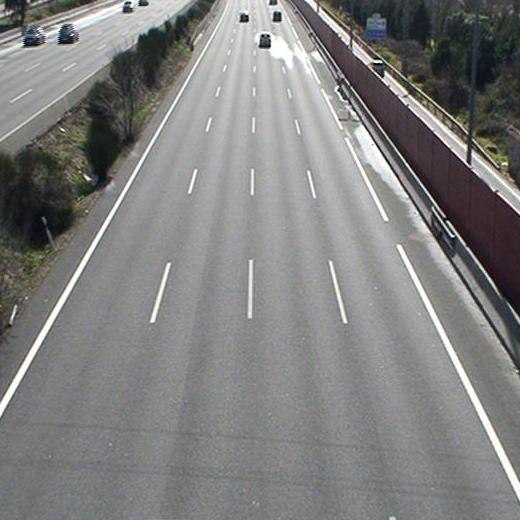car: (258, 33, 272, 48), (239, 11, 249, 22), (272, 11, 282, 21)
